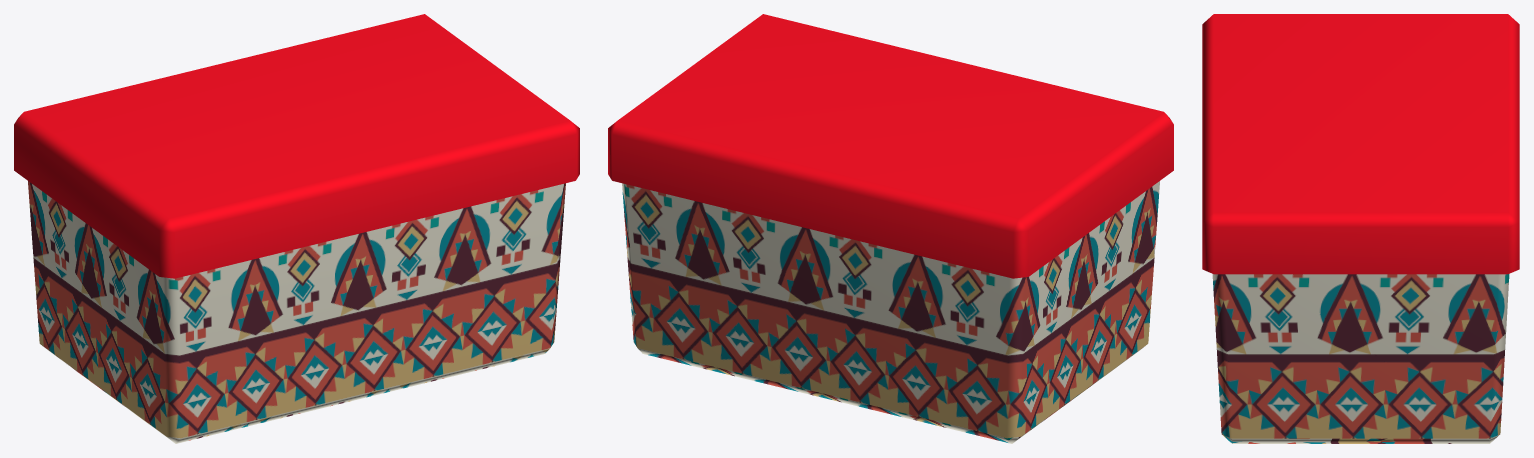
The model's file is giftbox_061.fbx.
3 renders of one model, left to right at view 1: azimuth 30°, elevation 25°; view 2: azimuth 150°, elevation 25°; view 3: azimuth 270°, elevation 25°, orthographic.
Visible parts, largest first — view 1: giftbox_061; view 2: giftbox_061; view 3: giftbox_061.
Boxes of the visible parts, x1,y1,x2,y2 form: giftbox_061: [14, 14, 579, 443]; giftbox_061: [608, 14, 1173, 443]; giftbox_061: [1202, 14, 1519, 443].
Size of the model in its own units: 349 by 225 by 187.
